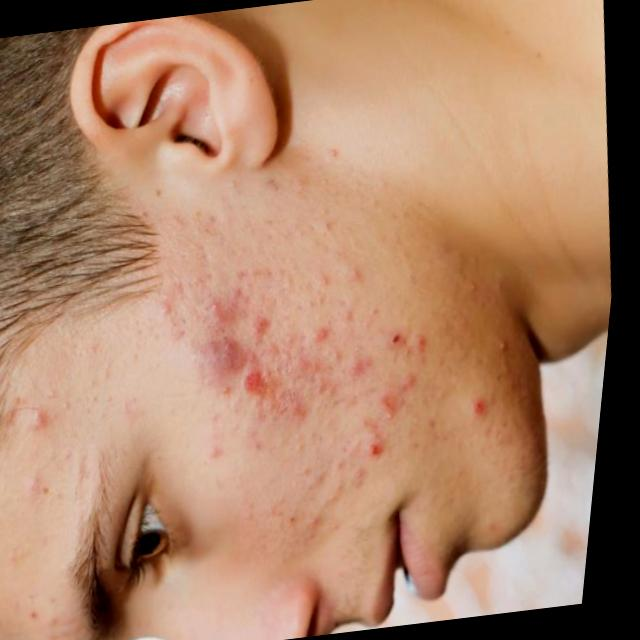nodule: (201, 335, 264, 386)
papule: (275, 435, 384, 549), (268, 321, 383, 422), (207, 281, 256, 334), (290, 269, 339, 320), (250, 402, 286, 453), (282, 383, 321, 427), (367, 408, 397, 464), (167, 279, 192, 319), (250, 365, 278, 400), (253, 309, 278, 343), (380, 383, 408, 413), (475, 388, 499, 420), (339, 300, 365, 328), (34, 401, 56, 432), (413, 329, 434, 357), (356, 355, 379, 380), (404, 369, 424, 396), (370, 300, 390, 327), (317, 321, 337, 347), (335, 341, 355, 364), (213, 438, 232, 461), (396, 324, 411, 349), (354, 260, 372, 279)
